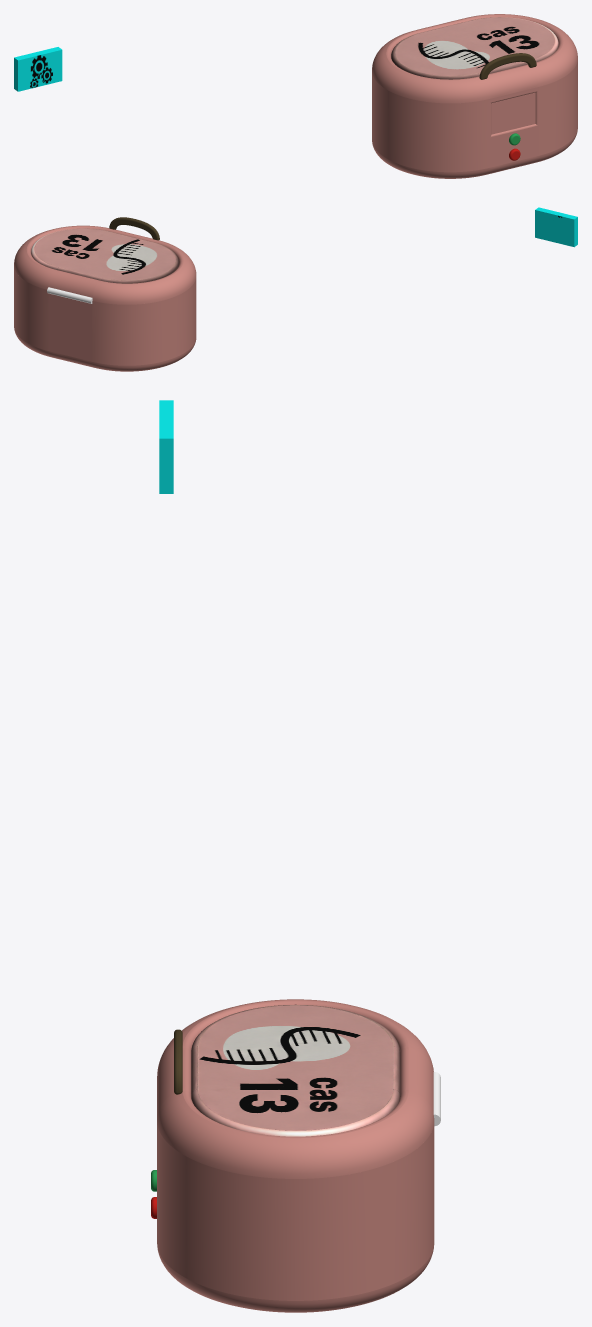
The model's file is 误删源文件.fbx.
3 renders of one model, top to bottom at view 1: azimuth 30°, elevation 25°; view 2: azimuth 150°, elevation 25°; view 3: azimuth 270°, elevation 25°, orthographic. The views are drawn at different scales.
Parts seen in each view (by area): view 1: 物件_306, 物件_298, 物件_299, 物件_283.001, 物件_303, 物件_301; view 2: 物件_306, 物件_298, 物件_299, 物件_283.001, 物件_301, 物件_300; view 3: 物件_306, 物件_298, 物件_299, 物件_283.001.
Part boxes in pixels (<box>): 物件_306: <box>372,60,577,178</box>; 物件_298: <box>391,17,558,79</box>; 物件_299: <box>372,14,577,103</box>; 物件_283.001: <box>14,47,62,91</box>; 物件_303: <box>491,92,535,134</box>; 物件_301: <box>479,53,536,79</box>; 物件_306: <box>14,267,196,371</box>; 物件_298: <box>31,228,179,283</box>; 物件_299: <box>14,225,196,304</box>; 物件_283.001: <box>535,207,577,247</box>; 物件_301: <box>109,217,159,240</box>; 物件_300: <box>47,287,92,303</box>; 物件_306: <box>157,1122,434,1312</box>; 物件_298: <box>191,1004,400,1136</box>; 物件_299: <box>157,999,434,1178</box>; 物件_283.001: <box>159,400,173,493</box>.
Bounding box in the file's own units: 67.22 × 25.36 × 16.2.
